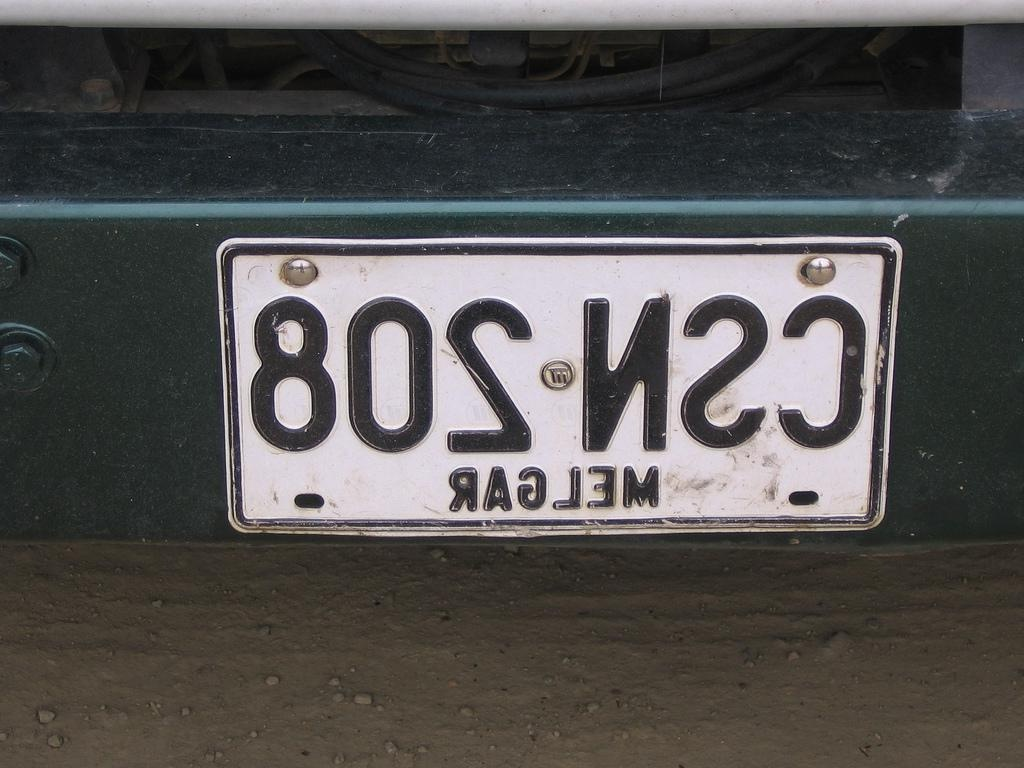placas: (212, 230, 910, 543)
